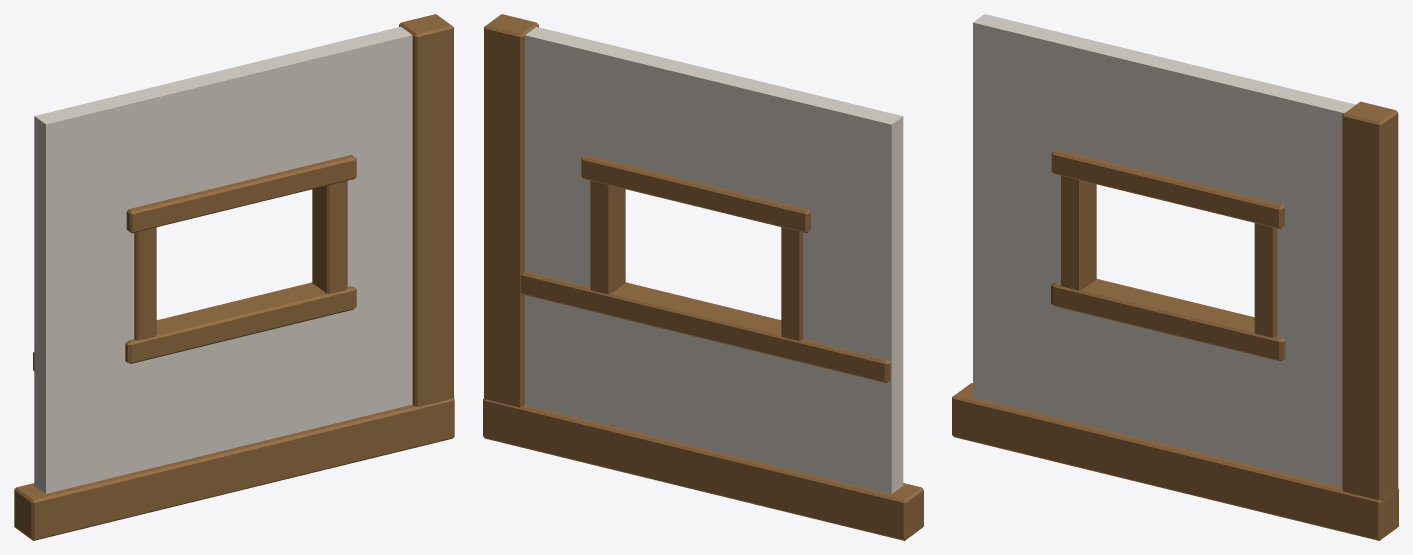
File: WallWindow.fbx
3 views of the same model, side by side, from view 1: azimuth 30°, elevation 25°; view 2: azimuth 150°, elevation 25°; view 3: azimuth 330°, elevation 25° (orthographic).
Parts seen in each view (by area): view 1: Cube.131, Cube.140, Cube.138, Cube.143, Cube.144, Cube.137, Cube.142; view 2: Cube.131, Cube.140, Cube.138, Cube.143, Cube.144, Cube.137, Cube.142; view 3: Cube.131, Cube.138, Cube.140, Cube.143, Cube.144, Cube.142, Cube.137.
Boxes of the visible parts, x1,y1,x2,y2 form: Cube.131: (34, 26, 412, 493); Cube.140: (14, 398, 454, 540); Cube.138: (399, 14, 453, 406); Cube.143: (33, 282, 356, 370); Cube.144: (126, 155, 356, 233); Cube.137: (312, 180, 347, 293); Cube.142: (134, 227, 156, 340); Cube.131: (525, 27, 903, 494); Cube.140: (483, 398, 923, 540); Cube.138: (484, 14, 538, 407); Cube.143: (520, 271, 890, 382); Cube.144: (581, 155, 810, 233); Cube.137: (590, 180, 625, 294); Cube.142: (781, 227, 803, 340); Cube.131: (973, 14, 1355, 487); Cube.138: (1342, 101, 1398, 500); Cube.140: (952, 383, 1398, 540); Cube.143: (1051, 279, 1285, 361); Cube.144: (1051, 149, 1284, 228); Cube.142: (1061, 175, 1096, 290); Cube.137: (1254, 223, 1277, 337).
Bounding box in the file's own units: 216 × 201 × 17.27.
